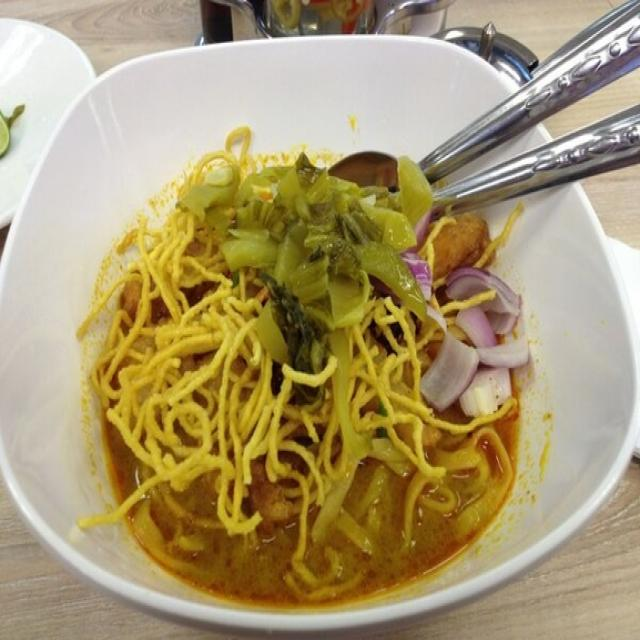面条主食: (63, 100, 556, 610)
